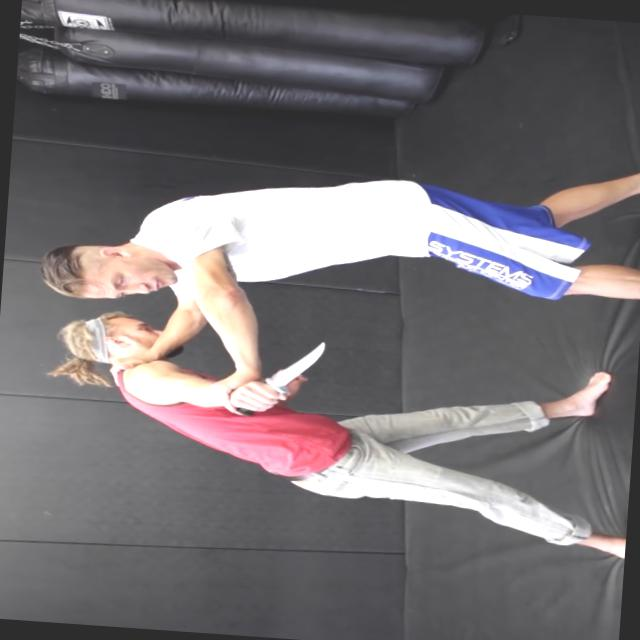knife: (228, 329, 339, 426)
